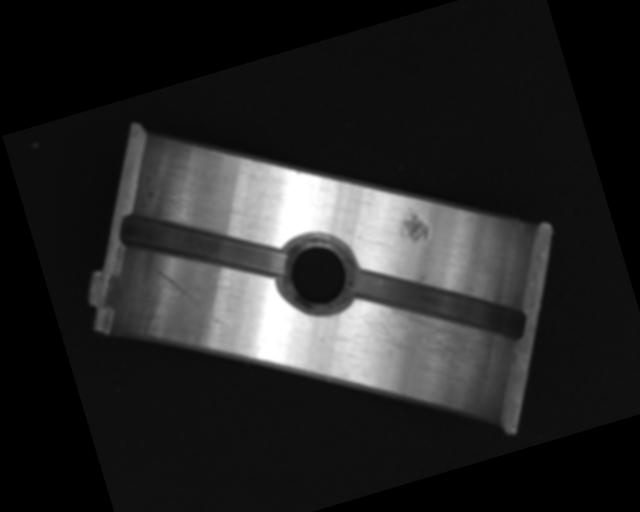bruise: (396, 202, 432, 246)
gap: (346, 228, 531, 380), (116, 174, 290, 315)
hole: (272, 224, 365, 322)
nick: (153, 253, 225, 341)
scratch: (361, 277, 504, 413)
